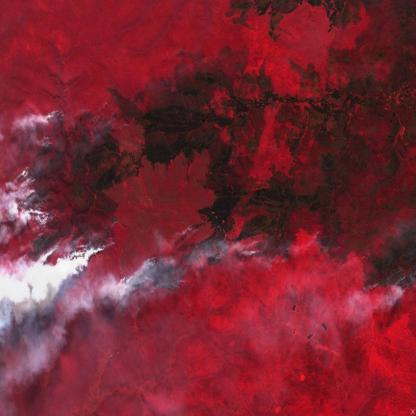fire: (0, 104, 416, 310)
